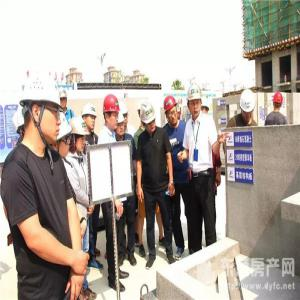red: (103, 94, 121, 132), (163, 95, 181, 127), (273, 92, 284, 112)
white: (21, 74, 63, 150), (53, 111, 73, 159), (69, 115, 89, 154), (238, 89, 258, 123), (140, 101, 158, 134), (187, 84, 203, 118), (83, 105, 98, 133), (115, 112, 125, 139), (59, 88, 69, 112), (121, 105, 130, 127)
